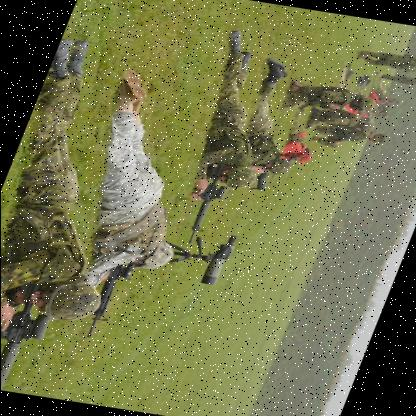rifle: (0, 270, 63, 392), (173, 159, 237, 247), (81, 258, 143, 342)
